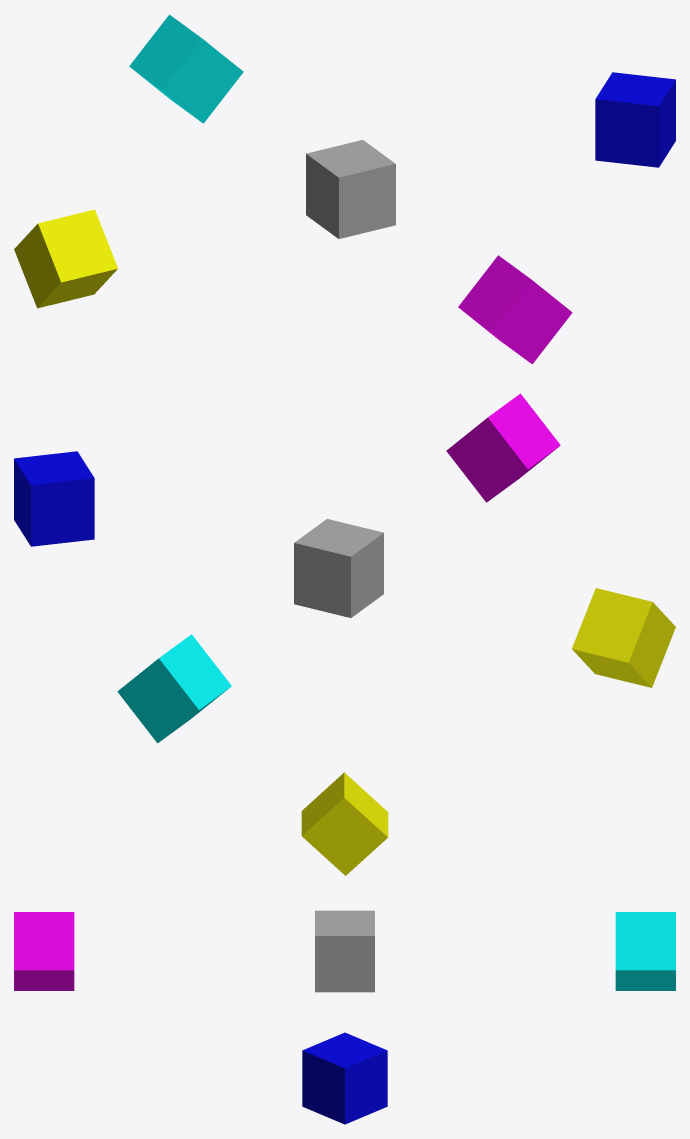
Rendered from Cubes.fbx.
3 views of the same model, one above another, from view 1: azimuth 30°, elevation 25°; view 2: azimuth 150°, elevation 25°; view 3: azimuth 270°, elevation 25° (orthographic). The views are drawn at different scales.
Visible parts, largest first — view 1: pCube1, pCube3, pCube2, pCube5, pCube4; view 2: pCube1, pCube3, pCube2, pCube4, pCube5; view 3: pCube2, pCube3, pCube1, pCube4, pCube5.
Boxes of the visible parts, x1,y1,x2,y2 form: pCube1: (306, 140, 395, 238); pCube3: (14, 209, 117, 308); pCube2: (595, 72, 675, 167); pCube5: (458, 255, 572, 364); pCube4: (129, 14, 243, 123); pCube1: (294, 519, 383, 617); pCube3: (572, 588, 675, 687); pCube2: (14, 451, 94, 546); pCube4: (117, 634, 231, 743); pCube5: (446, 393, 560, 502); pCube2: (302, 1032, 387, 1124); pCube3: (301, 772, 388, 875); pCube1: (315, 910, 374, 992); pCube4: (615, 912, 675, 990); pCube5: (14, 912, 74, 990).
Size of the model in its own units: 11.21 by 1.44 by 11.
